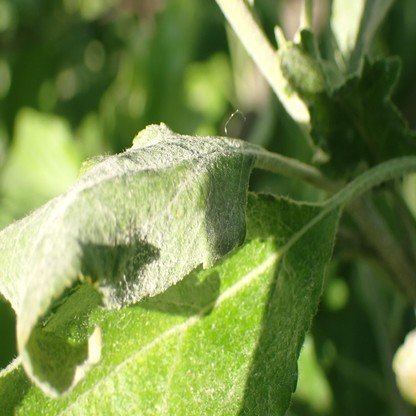powdery_mildew: (1, 125, 248, 395)
